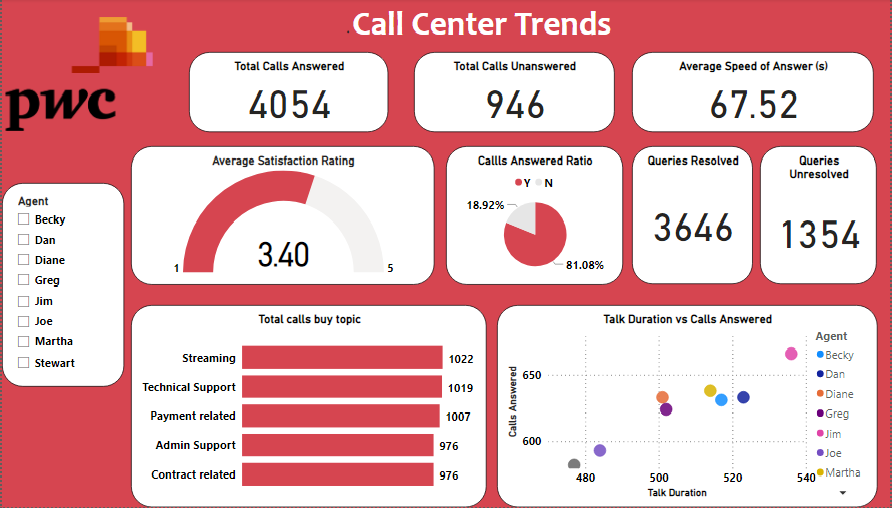

The page's visual inventory and layout, read from the dashboard file:
{"tool":"powerbi","page":{"name":"Page 1","canvas":[1280,720],"ordinal":0},"visuals":[{"type":"gauge","title":"Average Satisfaction Rating","fields":{"Y":["Avg(Sheet1.Satisfaction rating)"]},"box":[186.5,208.3,436.7,196.5],"z":0},{"type":"pieChart","title":"Calls Answer Ratio","fields":{"Y":["CountNonNull(Sheet1.Answered (Y/N))"],"Category":["Sheet1.Answered (Y/N)"]},"box":[640,208.3,255.3,196.5],"z":1000},{"type":"card","title":"Average Speed of Answer (s)","fields":{"Values":["Avg(Sheet1.Speed of answer in seconds)"]},"box":[907.1,75.6,347.7,114.2],"z":2000},{"type":"card","title":"Total Calls Unanswered","fields":{"Values":["CountNonNull(Sheet1.Answered (Y/N))"]},"box":[593,75.6,288.9,114.2],"z":3000},{"type":"card","title":"Total Calls Answered","fields":{"Values":["CountNonNull(Sheet1.Answered (Y/N))"]},"box":[268.8,75.6,287.2,114.2],"z":4000},{"type":"textbox","box":[361.4,0,610.6,105.1],"z":5000},{"type":"barChart","title":"Total calls by topic","fields":{"Category":["Sheet1.Topic"],"Y":["CountNonNull(Sheet1.Topic)"]},"box":[186.5,433.4,512.3,287.2],"z":6000},{"type":"card","title":"Queries Resolved","fields":{"Values":["CountNonNull(Sheet1.Resolved)"]},"box":[907.2,208.8,174.2,195.8],"z":7000},{"type":"slicer","fields":{"Values":["Sheet1.Agent"]},"box":[0,260.4,176.4,288.9],"z":8000},{"type":"scatterChart","title":"Talk Duration vs Calls Answered","fields":{"Series":["Sheet1.Agent"],"Y":["CountNonNull(Sheet1.Answered (Y/N))"],"X":["Sheet1.AvgTalkDuration"]},"box":[712.2,433.4,547.6,287.2],"z":9000},{"type":"card","title":"Queries Unresolved","fields":{"Values":["CountNonNull(Sheet1.Resolved)"]},"box":[1091.5,208.8,168.5,195.8],"z":10000},{"type":"image","box":[0,0,221.7,211.7],"z":11000}]}

Visuals, with their boxes in screenshot pixels (x1, y1, x2, y2), scaled from the page's 1280x720 canvas onto the 892x508 screenshot:
"Average Satisfaction Rating" gauge: locate(130, 147, 434, 286)
"Calls Answer Ratio" pieChart: locate(446, 147, 624, 286)
"Average Speed of Answer (s)" card: locate(632, 53, 874, 134)
"Total Calls Unanswered" card: locate(413, 53, 615, 134)
"Total Calls Answered" card: locate(187, 53, 387, 134)
textbox: locate(252, 0, 677, 74)
"Total calls by topic" barChart: locate(130, 306, 487, 507)
"Queries Resolved" card: locate(632, 147, 754, 285)
slicer - Sheet1.Agent: locate(0, 184, 123, 388)
"Talk Duration vs Calls Answered" scatterChart: locate(496, 306, 878, 507)
"Queries Unresolved" card: locate(761, 147, 878, 285)
image: locate(0, 0, 154, 149)
